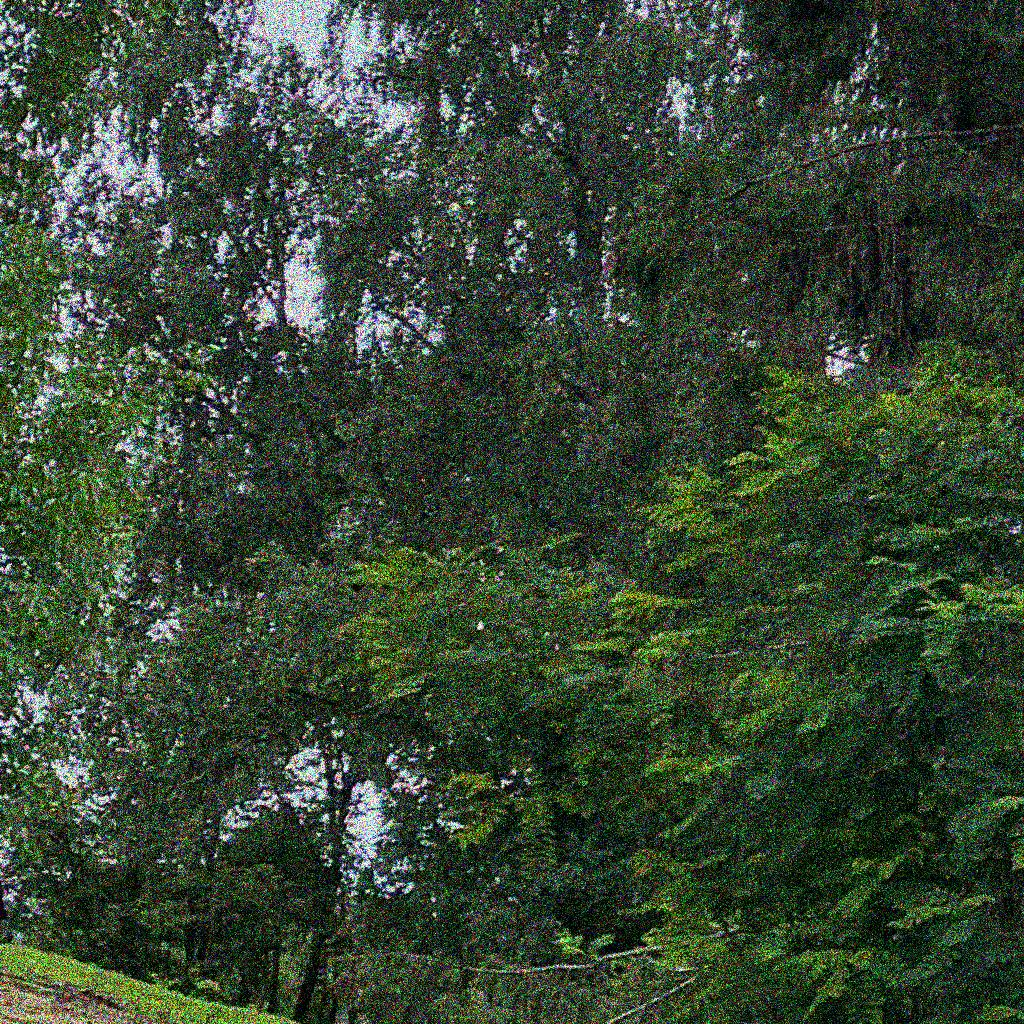tree: (47, 1, 1023, 1023), (336, 347, 1023, 1024), (1, 1, 215, 853)
